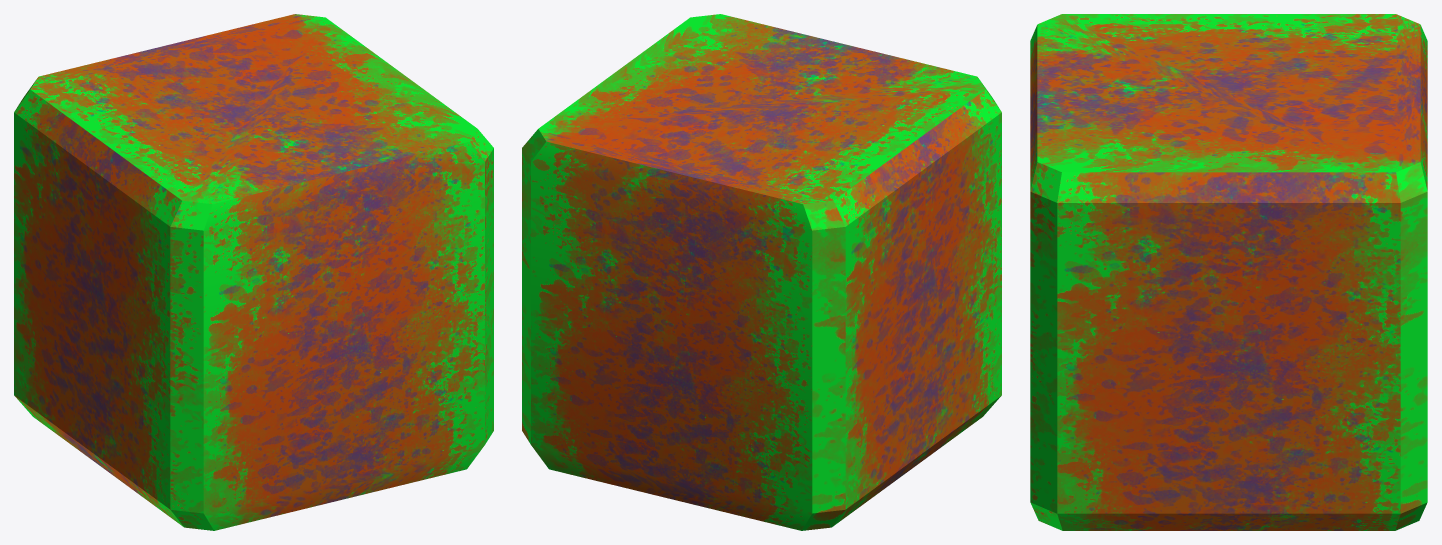
File: Ruins Block.fbx
3 renders of one model, left to right at view 1: azimuth 30°, elevation 25°; view 2: azimuth 150°, elevation 25°; view 3: azimuth 270°, elevation 25°, orthographic. The views are drawn at different scales.
Visible parts, largest first — view 1: Block; view 2: Block; view 3: Block.
Boxes of the visible parts, x1,y1,x2,y2 form: Block: (14, 14, 493, 530); Block: (522, 14, 1001, 530); Block: (1030, 14, 1427, 530).
Bounding box in the file's own units: 266 × 257 × 258.
